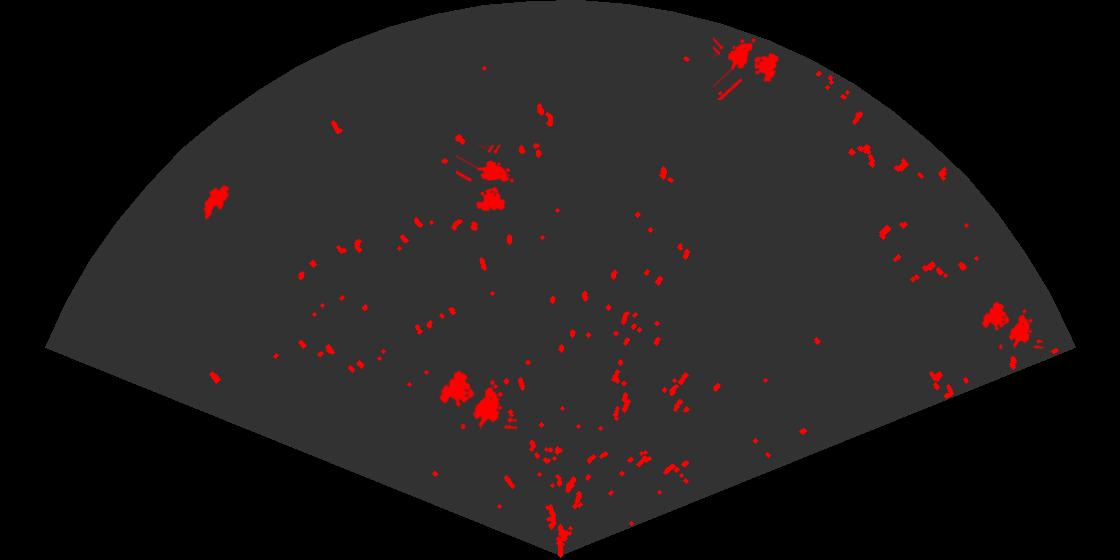AUV: (202, 183, 231, 221)
cage: (437, 369, 517, 429), (713, 35, 780, 100), (456, 145, 515, 213), (979, 300, 1043, 349)
